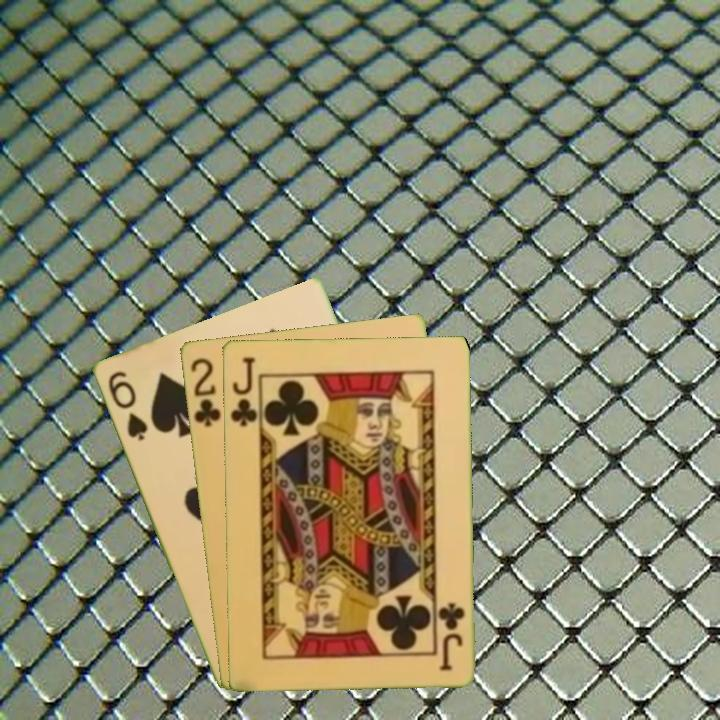2c: (186, 354, 223, 430)
6s: (104, 367, 151, 444)
Jc: (227, 353, 260, 429), (435, 599, 468, 673)
